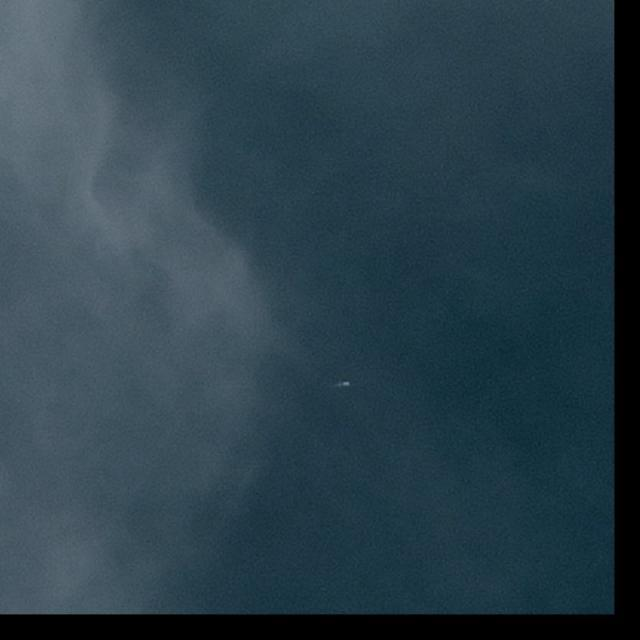ship: (341, 382, 350, 387)
